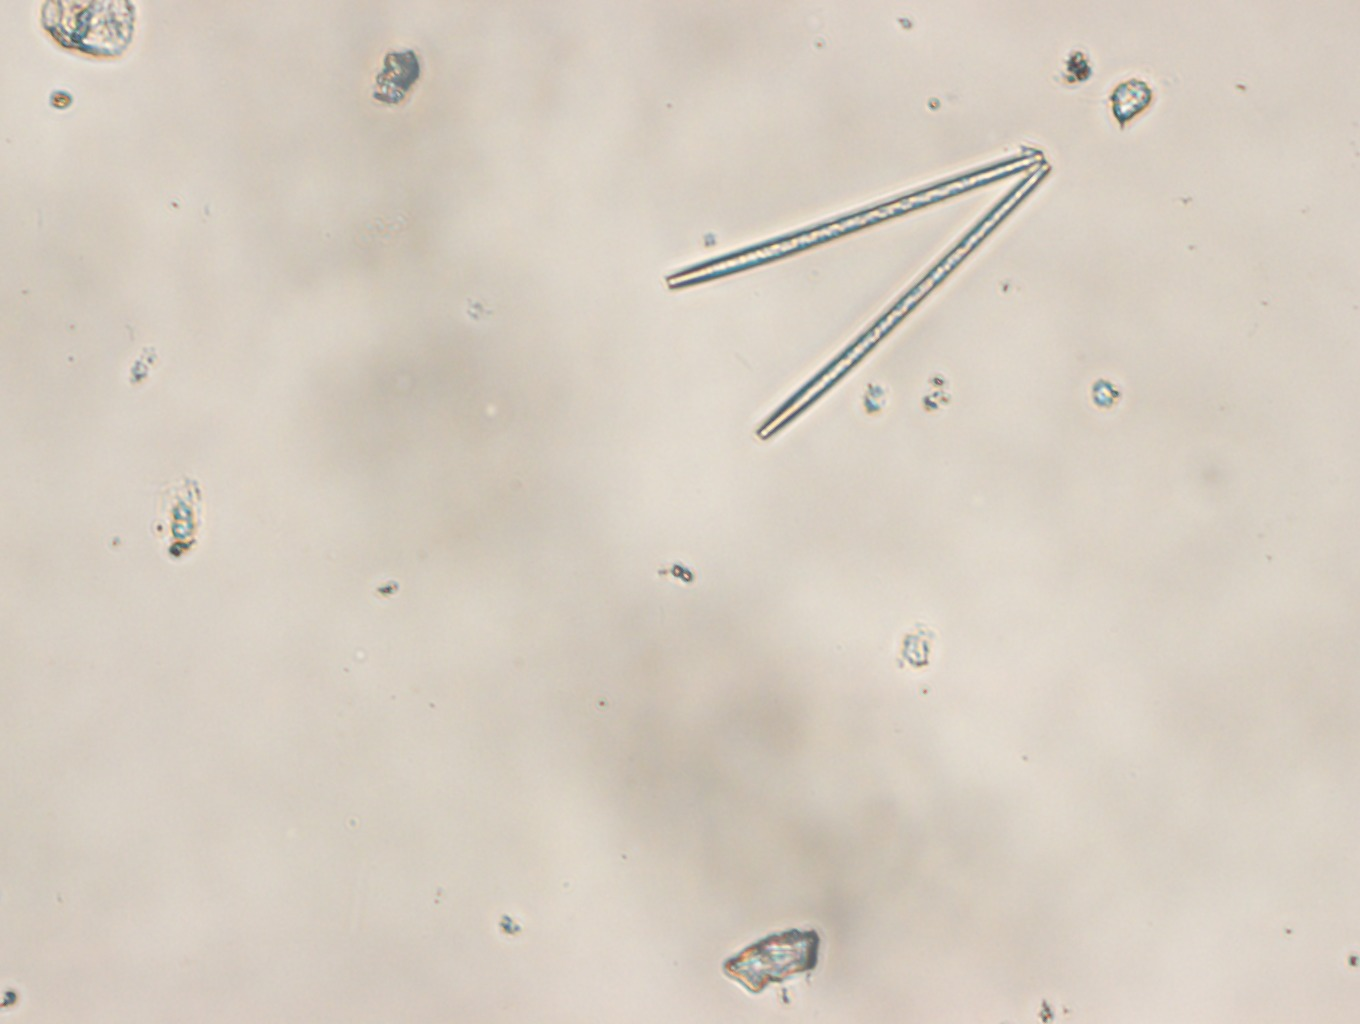thalassionema frauenfeldii: (664, 147, 1050, 442)
